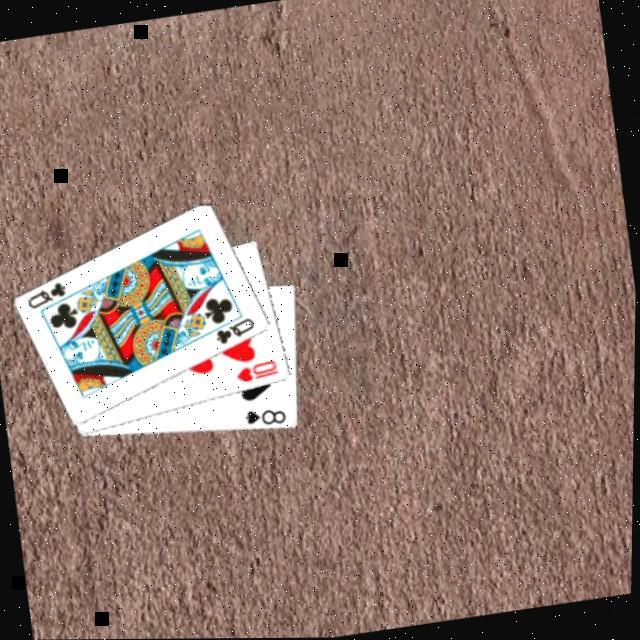10H: (231, 356, 282, 386)
8S: (239, 403, 288, 431)
QC: (21, 278, 71, 313), (210, 313, 259, 347)
